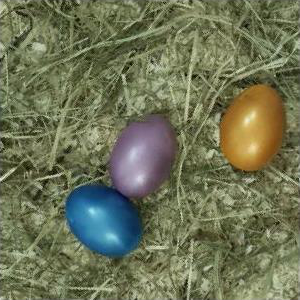egg: (219, 83, 287, 173), (109, 116, 180, 199), (67, 185, 144, 259)
